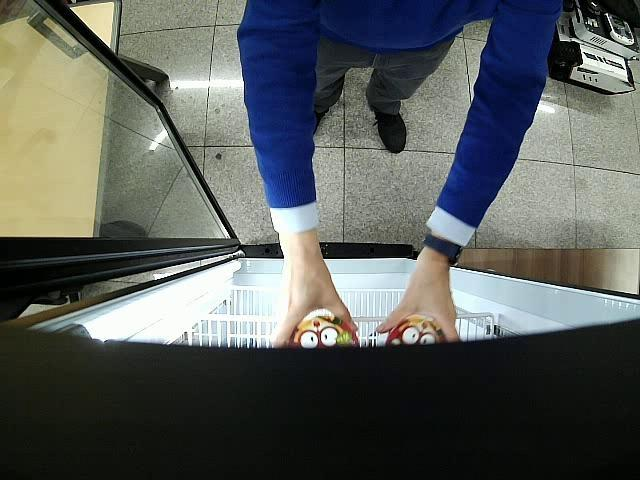06_nuguri_S: (287, 317, 360, 348), (385, 314, 448, 346)
